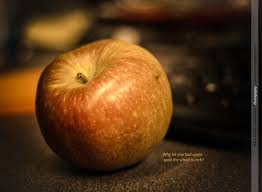apple: (37, 37, 171, 167)
